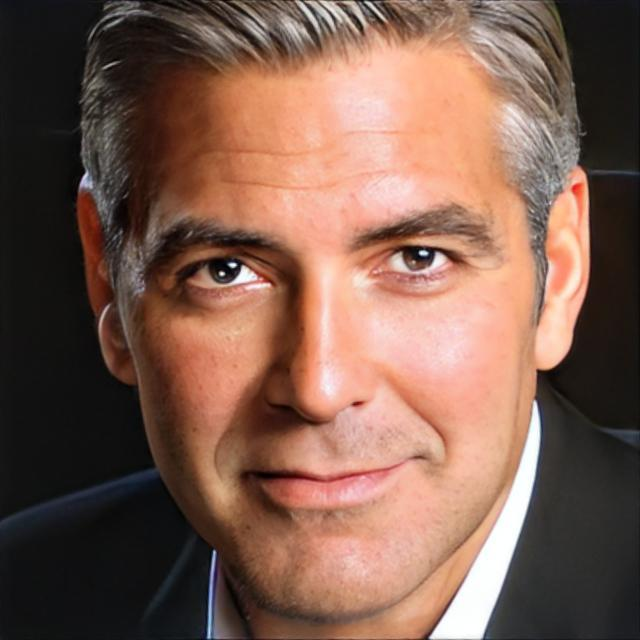content: (128, 36, 534, 621)
